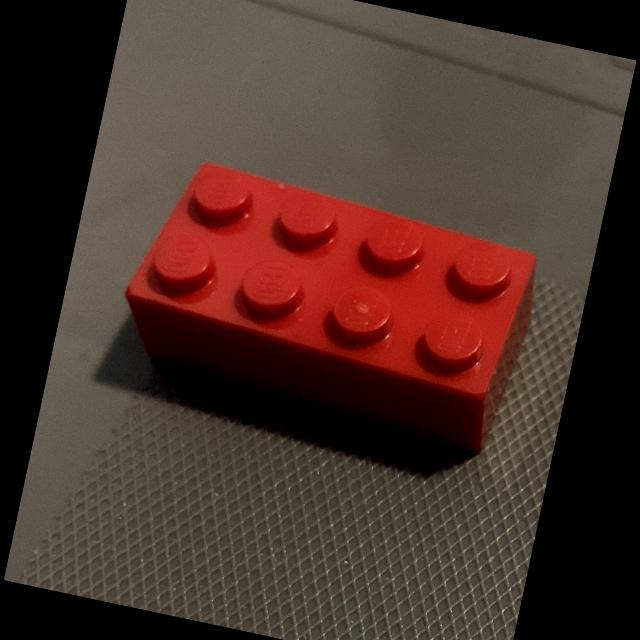2x4: (127, 163, 536, 452)
